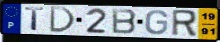2: (85, 7, 108, 35)
B: (111, 8, 138, 35)
D: (48, 5, 77, 34)
G: (144, 9, 169, 36)
R: (170, 9, 198, 38)
T: (24, 6, 46, 31)
